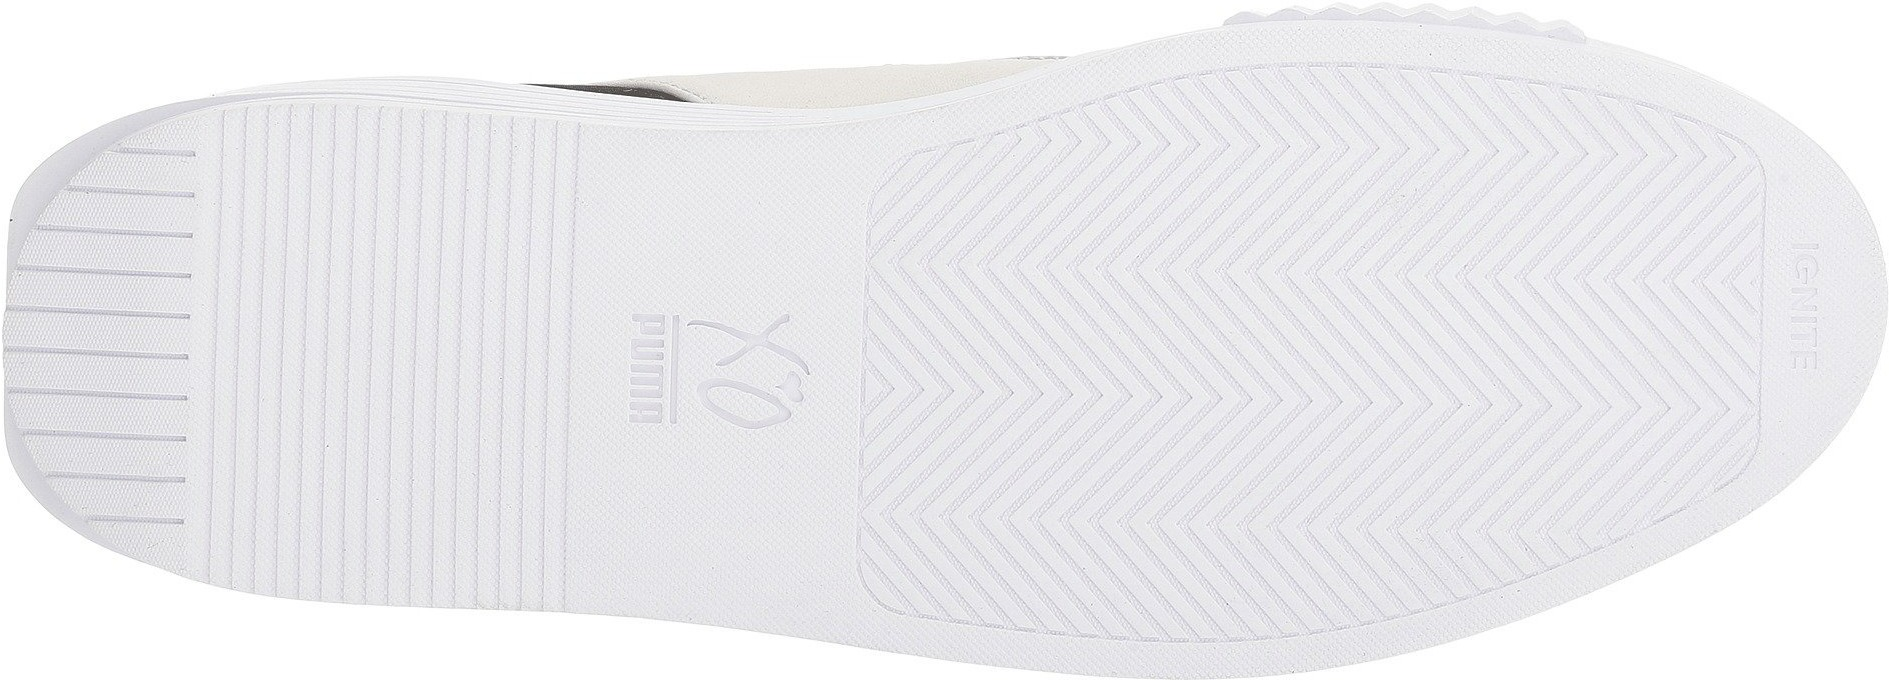chevron: (1157, 96, 1549, 450), (884, 172, 1153, 423), (1556, 133, 1760, 354), (873, 424, 1082, 623), (1090, 444, 1299, 635), (1312, 456, 1477, 608), (1558, 358, 1718, 508)
other: (600, 127, 784, 303), (688, 463, 857, 610)
quad: (208, 113, 478, 354), (205, 359, 432, 590), (20, 250, 202, 440)
text: (620, 306, 808, 458), (1773, 231, 1859, 321), (1767, 313, 1838, 385)
